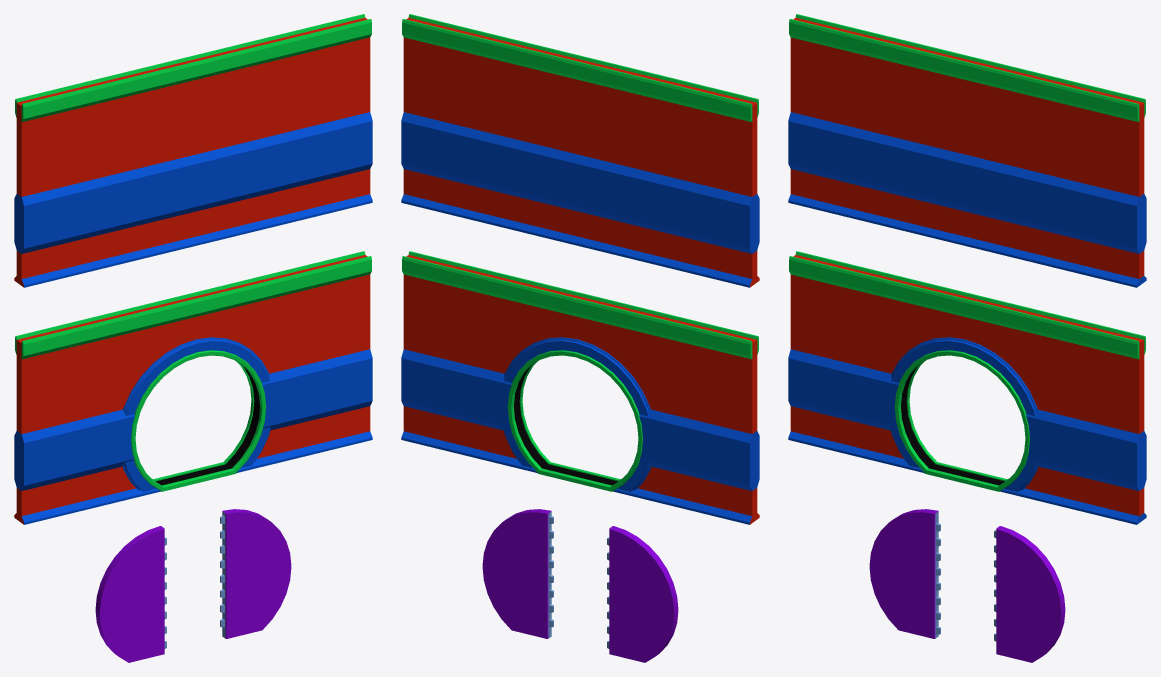
File: Wall_Door_01_SP.fbx
3 views of the same model, side by side, from view 1: azimuth 30°, elevation 25°; view 2: azimuth 150°, elevation 25°; view 3: azimuth 330°, elevation 25° (orthographic).
Visible parts, largest first — view 1: Wall_Body_N, Wall_Body, Wall_Door_L, Wall_Door_R; view 2: Wall_Body_N, Wall_Body, Wall_Door_L, Wall_Door_R; view 3: Wall_Body_N, Wall_Body, Wall_Door_R, Wall_Door_L.
Part boxes in pixels (box(x1,y1,x2,y2)): Wall_Body_N: box(14, 14, 372, 287); Wall_Body: box(14, 251, 372, 524); Wall_Door_L: box(95, 526, 166, 662); Wall_Door_R: box(220, 509, 291, 638); Wall_Body_N: box(401, 14, 759, 287); Wall_Body: box(401, 251, 759, 524); Wall_Door_L: box(607, 526, 678, 662); Wall_Door_R: box(482, 509, 553, 638); Wall_Body_N: box(788, 14, 1146, 287); Wall_Body: box(788, 251, 1146, 524); Wall_Door_R: box(994, 526, 1065, 662); Wall_Door_L: box(869, 509, 940, 638).
Bounding box in the file's own units: 800 × 1285 × 44.05.
